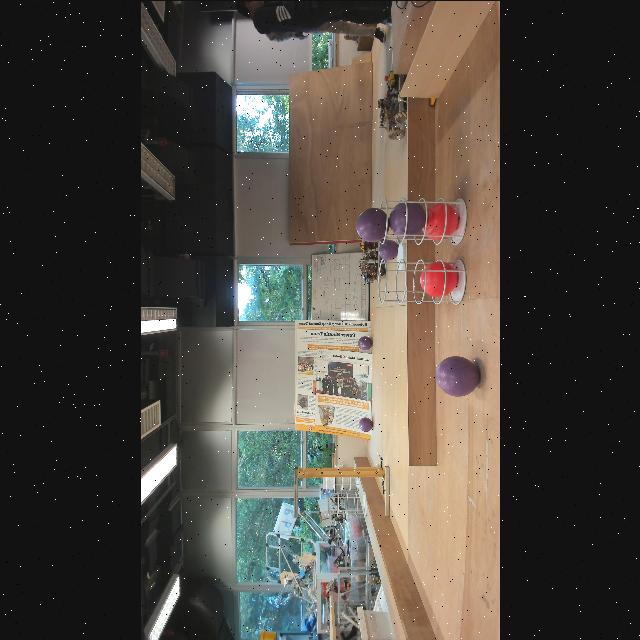P: (436, 356, 480, 396), (388, 200, 426, 238), (356, 206, 390, 242), (378, 238, 399, 260), (358, 335, 372, 349), (359, 417, 373, 431)
R: (420, 260, 458, 296), (422, 202, 458, 240)
S: (378, 197, 468, 246), (377, 257, 468, 305), (327, 490, 367, 516), (325, 473, 359, 491)
